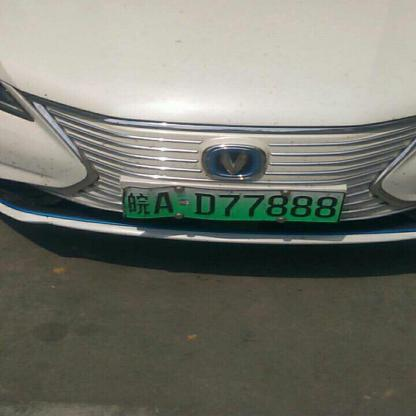lp: (123, 187, 343, 221)
